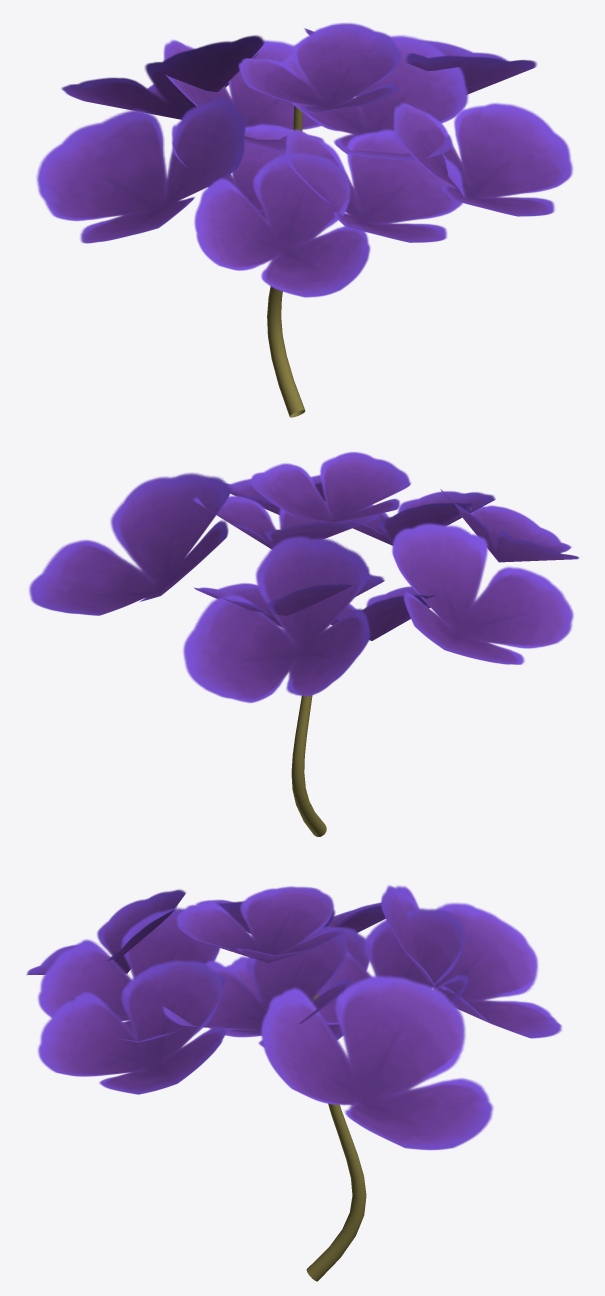
The model's file is purple_flowers_with_stem_quaternius_fixed2.glb.
The picture shows the model from 3 angles, top to bottom: view 1: azimuth 30°, elevation 25°; view 2: azimuth 150°, elevation 25°; view 3: azimuth 270°, elevation 25°; orthographic projection. The views are drawn at different scales.
Parts seen in each view (by area): view 1: Plant_7.005; view 2: Plant_7.005; view 3: Plant_7.005.
Boxes of the visible parts, x1,y1,x2,y2 form: Plant_7.005: (36, 23, 573, 417); Plant_7.005: (29, 452, 579, 836); Plant_7.005: (26, 885, 562, 1281).
Bounding box in the file's own units: 1.05 × 0.6873 × 0.9621.
2 materials, 1 textured.
